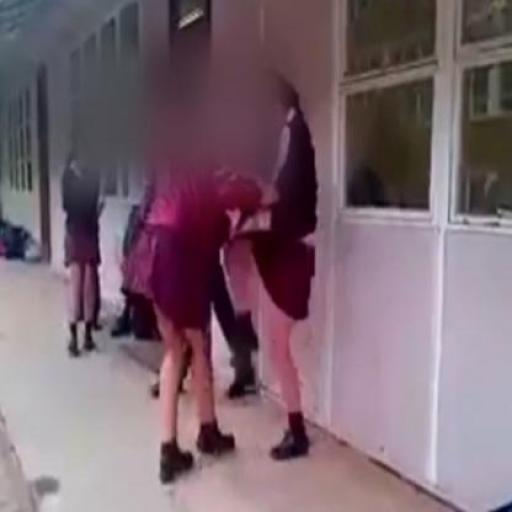Fighting: (110, 64, 318, 484)
